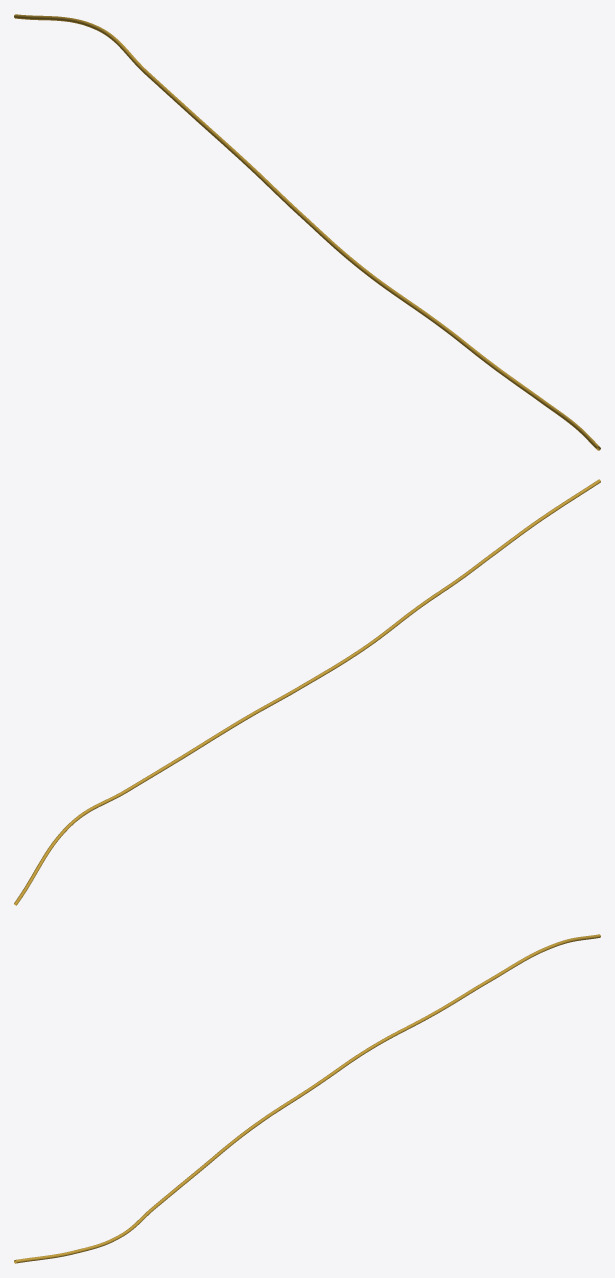
The picture shows the model from 3 angles, top to bottom: view 1: azimuth 30°, elevation 25°; view 2: azimuth 150°, elevation 25°; view 3: azimuth 330°, elevation 25°; orthographic projection. The views are drawn at different scales.
Parts seen in each view (by area): view 1: 右侧腓浅神经; view 2: 右侧腓浅神经; view 3: 右侧腓浅神经.
Boxes of the visible parts, <box> form: 右侧腓浅神经: <box>14,14,600,450</box>; 右侧腓浅神经: <box>14,479,600,905</box>; 右侧腓浅神经: <box>14,934,600,1263</box>.
Size of the model in its own units: 0.0299 by 0.0232 by 0.4283.
